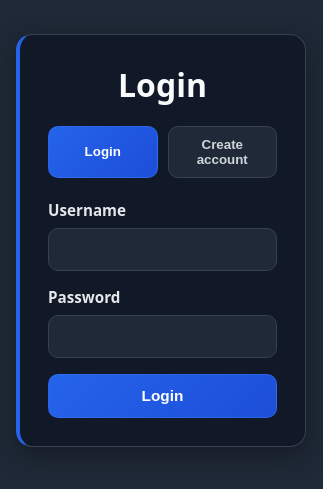
Test: Login Page › shows error on failed login
The image size is (323, 489).
Type "wronguser" into the 1st field with class "login-input".
click(163, 250); type("wronguser")  # box [48,228,277,271]
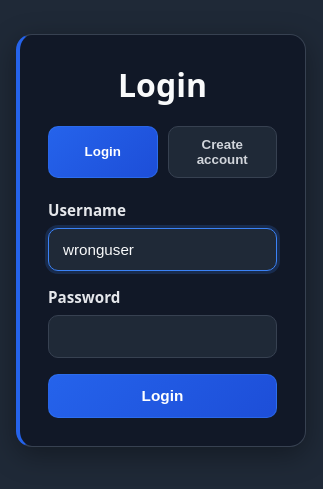
Type "wrongpass" into the 2nd password field with class "login-input".
click(163, 337); type("wrongpass")  # box [48,315,277,358]
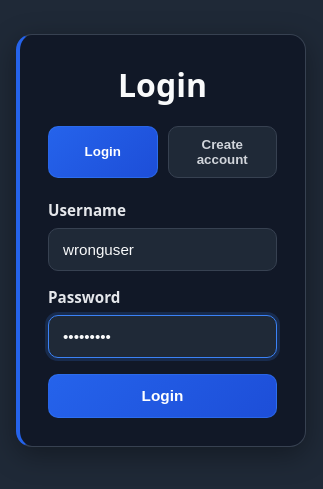
Click the button with class "login-submit".
click(163, 396)  # box [48,374,277,418]
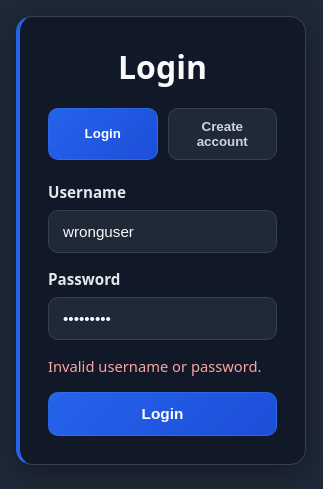
Now the text "Invalid username or password." is shown, box [48,356,277,376]
